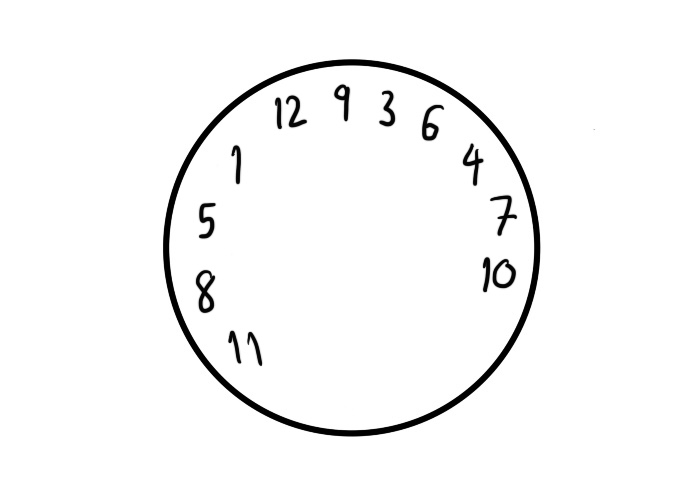eight: (193, 266, 215, 315)
eleven: (225, 329, 266, 370)
five: (197, 199, 218, 241)
four: (459, 138, 486, 189)
nine: (333, 81, 352, 125)
one: (230, 141, 244, 186)
seven: (488, 193, 517, 238)
six: (421, 98, 446, 145)
ten: (475, 248, 519, 295)
three: (376, 86, 398, 132)
twelve: (273, 92, 310, 131)
